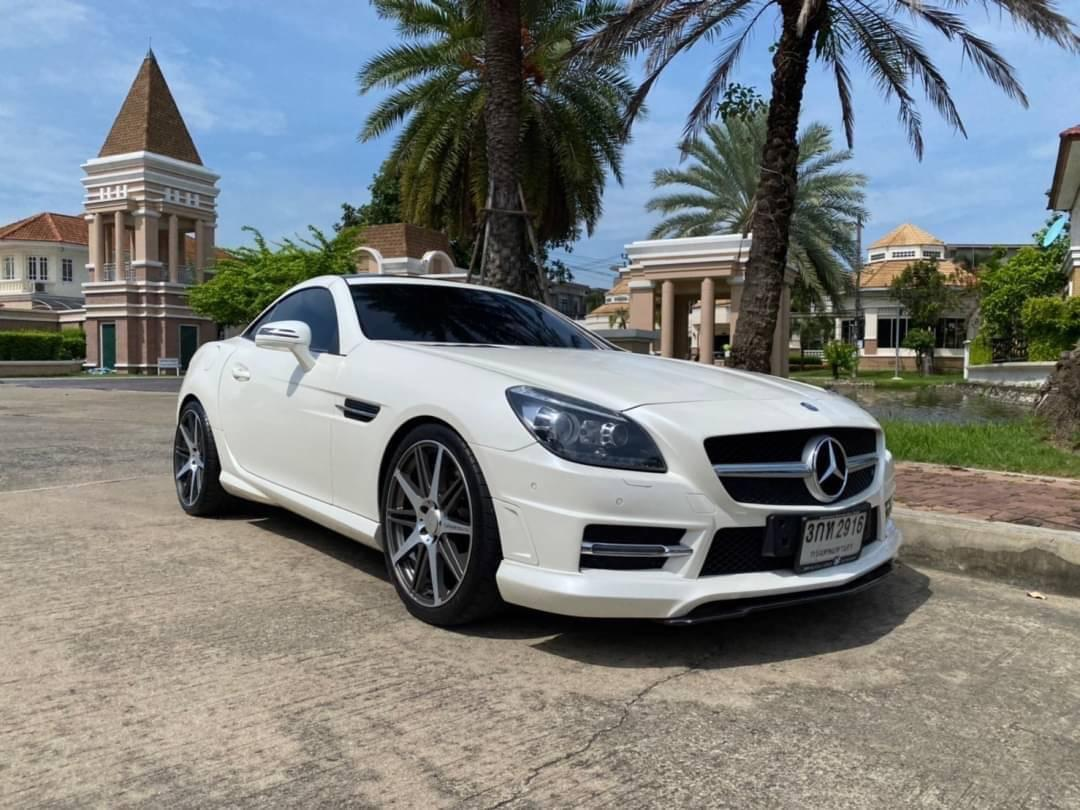license-plate: (789, 501, 877, 577)
